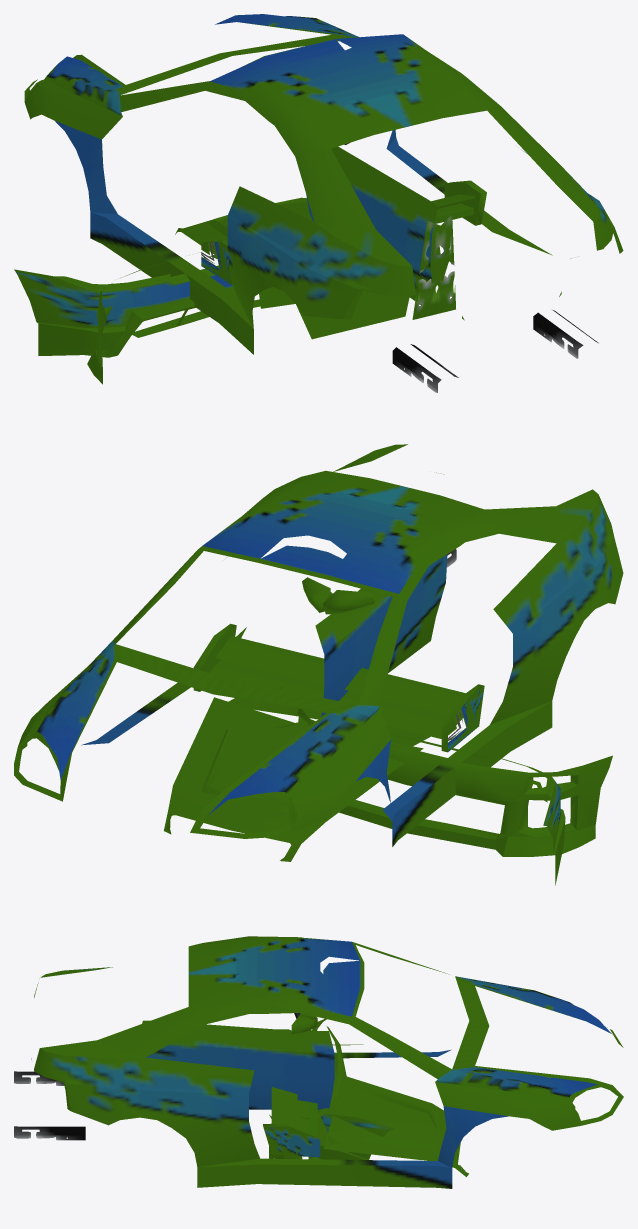
The model's file is car-HSPC_Car21.glb.
3 renders of one model, top to bottom at view 1: azimuth 30°, elevation 25°; view 2: azimuth 150°, elevation 25°; view 3: azimuth 270°, elevation 25°, orthographic. The views are drawn at different scales.
Parts seen in each view (by area): view 1: HSPC_Car21; view 2: HSPC_Car21; view 3: HSPC_Car21.
Boxes of the visible parts, x1=… form: HSPC_Car21: x1=14, y1=14, x2=623, y2=392; HSPC_Car21: x1=14, y1=444, x2=623, y2=885; HSPC_Car21: x1=14, y1=936, x2=623, y2=1188.
Bounding box in the file's own units: 2.47 × 1.45 × 3.9.
Materials: 19 (19 with a texture image).
